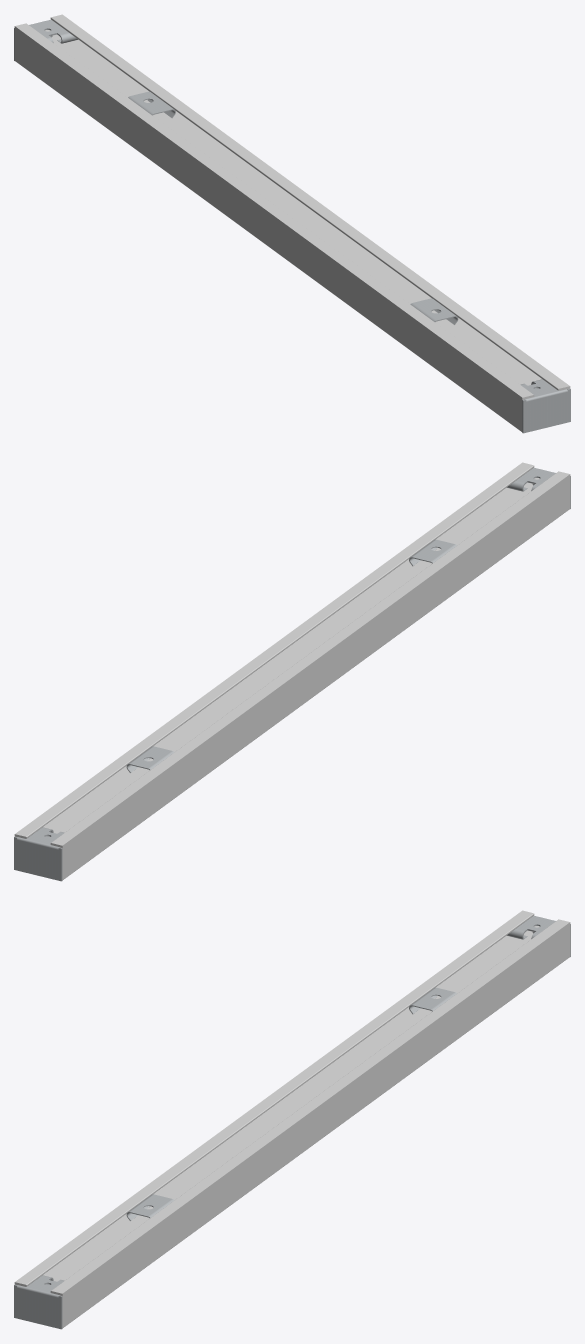
File: Fit25Plafon.glb
3 views of the same model, one above another, from view 1: azimuth 30°, elevation 25°; view 2: azimuth 150°, elevation 25°; view 3: azimuth 330°, elevation 25° (orthographic).
Parts seen in each view (by area): view 1: 3DGeom-1, 3DGeom-4 (×2), 3DGeom-5 (×2); view 2: 3DGeom-1, 3DGeom-4 (×2), 3DGeom-5 (×2); view 3: 3DGeom-1, 3DGeom-4 (×2), 3DGeom-5 (×2).
Boxes of the visible parts, <box> form: 3DGeom-1: <box>14,14,570,431</box>; 3DGeom-4 (×2): <box>14,19,570,433</box>; 3DGeom-5 (×2): <box>128,91,458,324</box>; 3DGeom-1: <box>14,462,570,879</box>; 3DGeom-4 (×2): <box>14,467,570,881</box>; 3DGeom-5 (×2): <box>126,539,456,772</box>; 3DGeom-1: <box>14,910,570,1327</box>; 3DGeom-4 (×2): <box>14,915,570,1329</box>; 3DGeom-5 (×2): <box>126,987,456,1220</box>.
Size of the model in its own units: 0.0274 by 0.0193 by 0.5066.
Materials: 3 (1 with a texture image).
